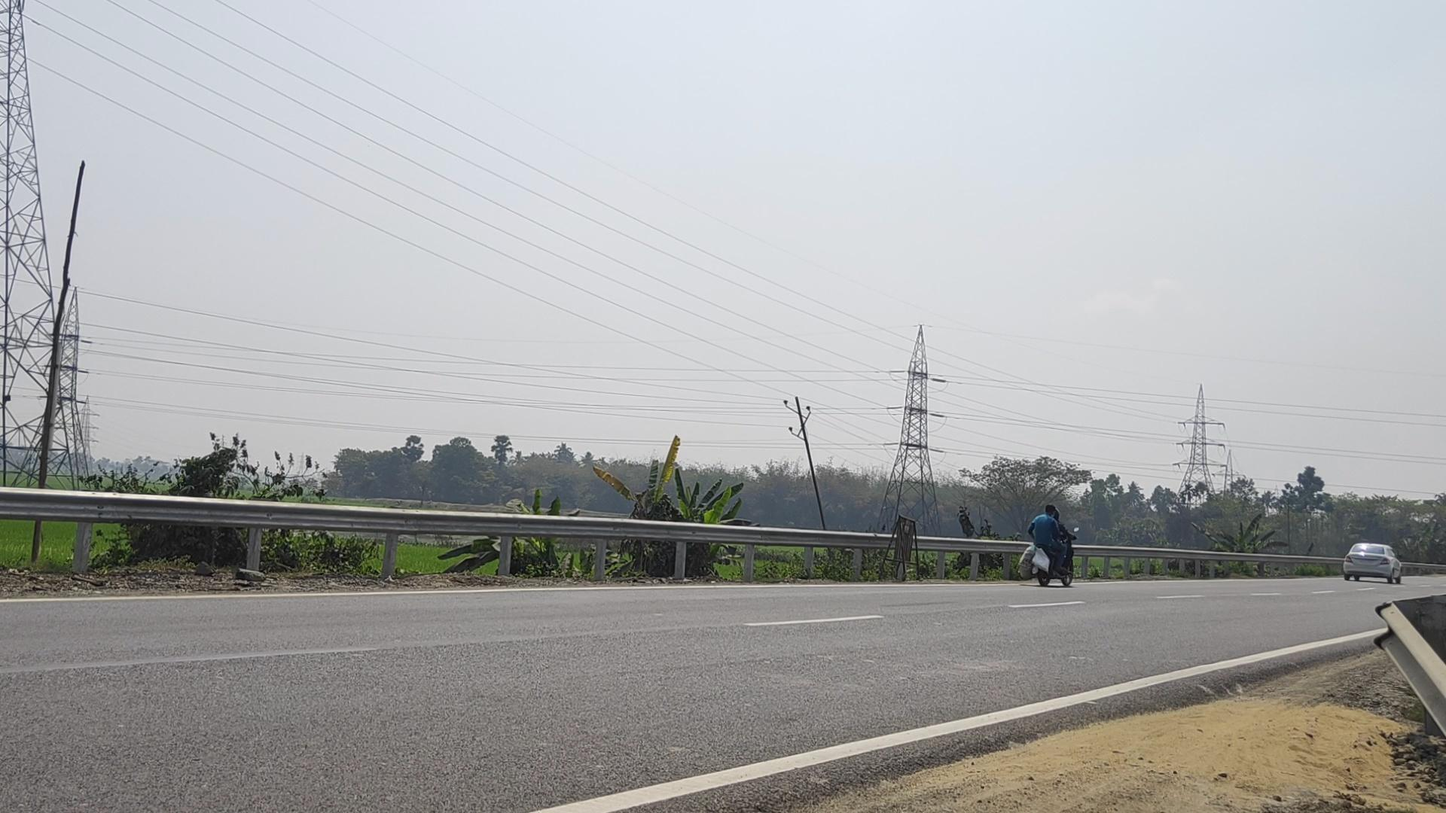bike: (1019, 504, 1080, 587)
car: (1343, 543, 1402, 584)
